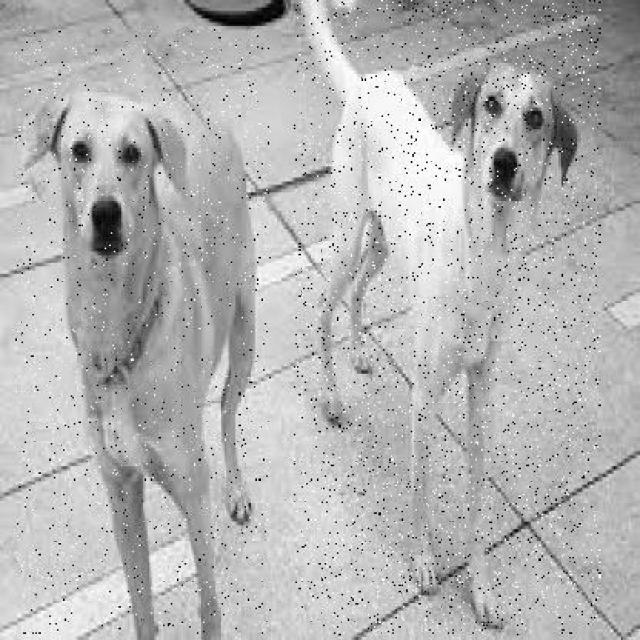Dog: (295, 0, 602, 637), (16, 29, 272, 637)
